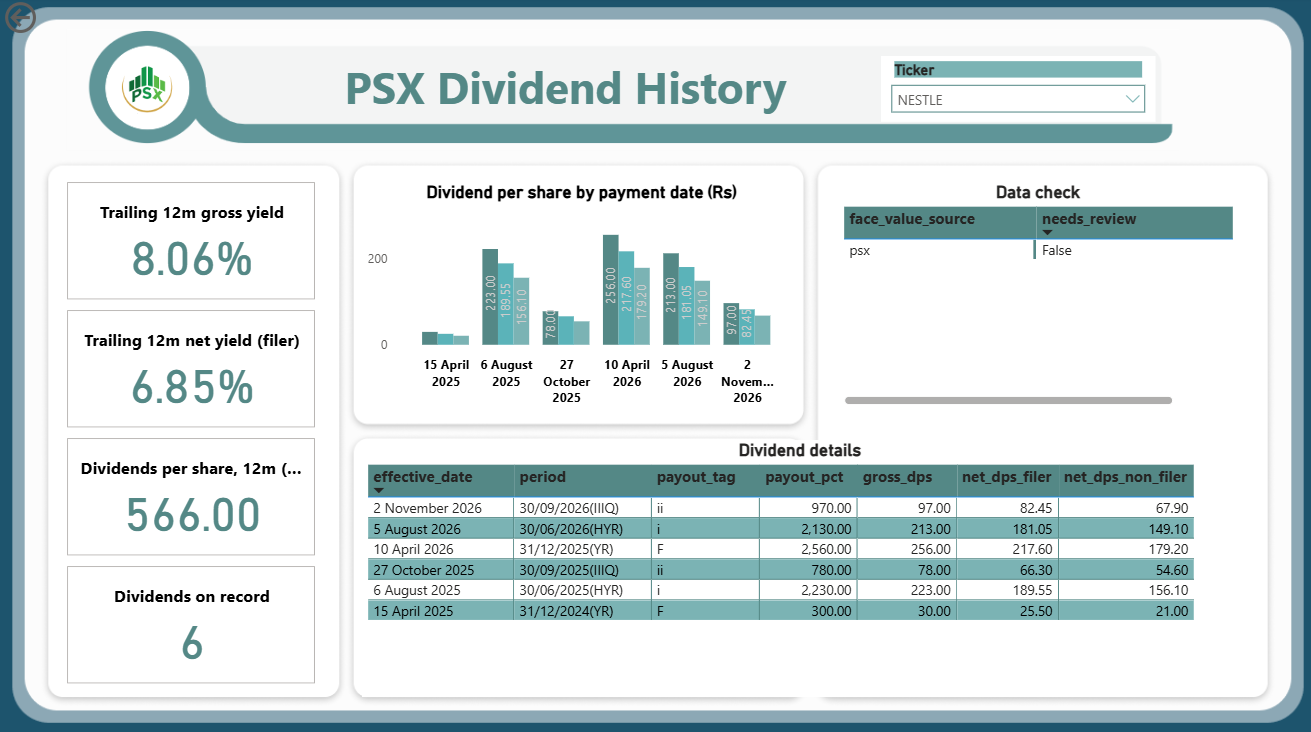

The dashboard page shown, as its layout file describes it:
{"tool":"powerbi","page":{"name":"Dividend history","canvas":[1280,720],"ordinal":1},"visuals":[{"type":"image","box":[7.8,26.3,1196.4,128.4],"z":0},{"type":"clusteredColumnChart","title":"Dividend per share by payment date (Rs)","fields":{"Category":["fact_dividends.effective_date"],"Y":["fact_dividends.Gross Dividend","fact_dividends.Net Dividend (Filer)","fact_dividends.Net Dividend (Non-filer)"]},"box":[352.1,179.9,427,225.7],"z":1000},{"type":"cardVisual","title":"Trailing 12m gross yield","fields":{"Data":["Avg(v_dividend_yield.gross_yield)"]},"box":[60.3,175.1,251.9,124.5],"z":2000},{"type":"cardVisual","fields":{"Data":["Avg(v_dividend_yield.net_yield_filer)"]},"box":[60.3,299.6,251.9,124.5],"z":3000},{"type":"cardVisual","fields":{"Data":["Avg(v_dividend_yield.gross_dps_12m)"]},"box":[60.3,424.1,251.9,124.5],"z":4000},{"type":"cardVisual","fields":{"Data":["v_dividend_yield.Dividend Events"]},"box":[60.3,548.6,251.9,124.5],"z":5000},{"type":"tableEx","title":"Dividend details","fields":{"Values":["fact_dividends.effective_date","fact_dividends.period","fact_dividends.payout_tag","fact_dividends.payout_pct","fact_dividends.gross_dps","fact_dividends.net_dps_filer","fact_dividends.net_dps_non_filer"]},"box":[352.1,430.9,852,250],"z":6000},{"type":"actionButton","box":[0,0,100,40],"z":7000},{"type":"tableEx","title":"Data check","fields":{"Values":["v_dividend_yield.face_value_source","v_dividend_yield.needs_review"]},"box":[815.1,179.9,389.1,221.8],"z":8000},{"type":"image","box":[108,58.4,72,63.2],"z":9000},{"type":"slicer","fields":{"Values":["dim_asset.ticker"]},"box":[856.9,57.4,267.5,64.2],"z":10000},{"type":"textbox","box":[243.2,53.5,613.7,68.1],"z":11000}]}

Visuals, with their boxes in screenshot pixels (x1, y1, x2, y2), scaled from the page's 1280x720 canvas onto the 1311x732 screenshot:
image: <box>8,27,1233,157</box>
"Dividend per share by payment date (Rs)" clusteredColumnChart: <box>361,183,798,412</box>
"Trailing 12m gross yield" cardVisual: <box>62,178,320,305</box>
cardVisual - Avg(v_dividend_yield.net_yield_filer): <box>62,305,320,431</box>
cardVisual - Avg(v_dividend_yield.gross_dps_12m): <box>62,431,320,558</box>
cardVisual - v_dividend_yield.Dividend Events: <box>62,558,320,684</box>
"Dividend details" tableEx: <box>361,438,1233,692</box>
actionButton: <box>0,0,102,41</box>
"Data check" tableEx: <box>835,183,1233,408</box>
image: <box>111,59,184,124</box>
slicer - dim_asset.ticker: <box>878,58,1152,124</box>
textbox: <box>249,54,878,124</box>
